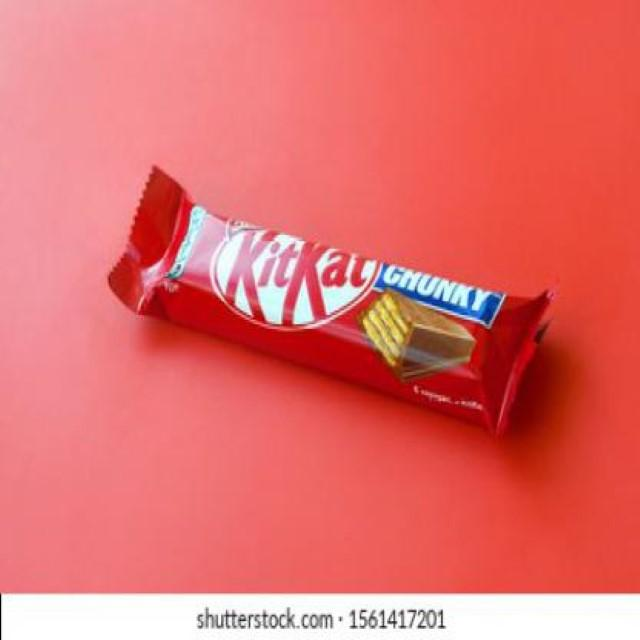kitkat_chocolate: (153, 192, 525, 436)
